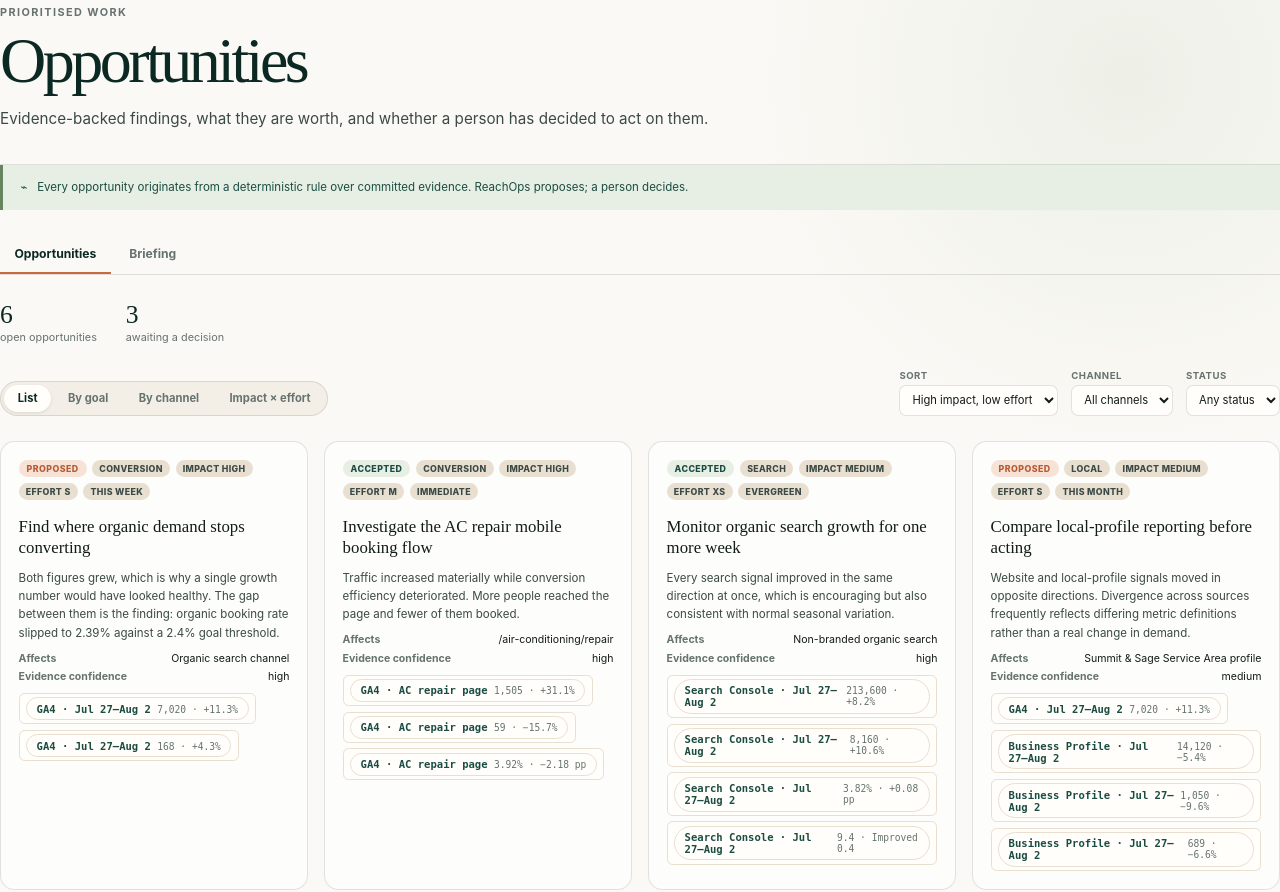
Test: OpportunitiesView › separates observation confidence from confidence in the explanation
Click the button "Investigate the AC repair mobile booking flow".
click(478, 538)  # box [343,517,613,559]
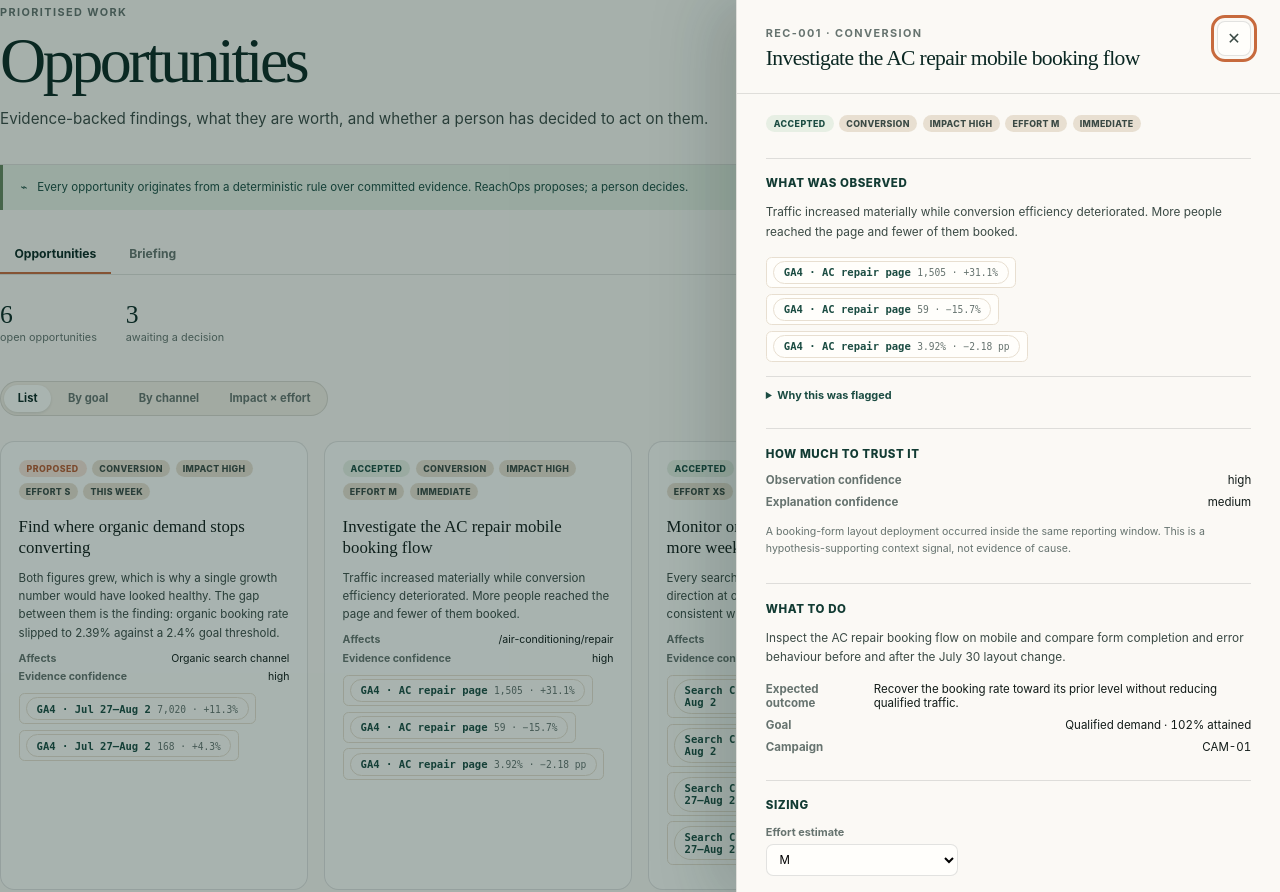
Now the text "Observation confidence" is shown, box [766,473,902,487]
Now the text "Explanation confidence" is shown, box [766,495,898,509]
Now the text "not evidence of cause" is shown, box [766,525,1205,555]
